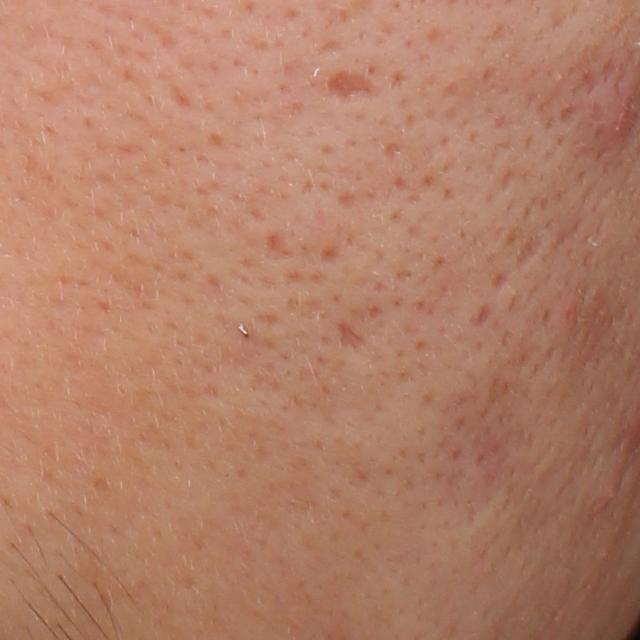atrophic_scar: (509, 230, 542, 277), (328, 71, 379, 101), (262, 229, 295, 263), (337, 321, 366, 352), (473, 299, 493, 326), (383, 139, 404, 159)
